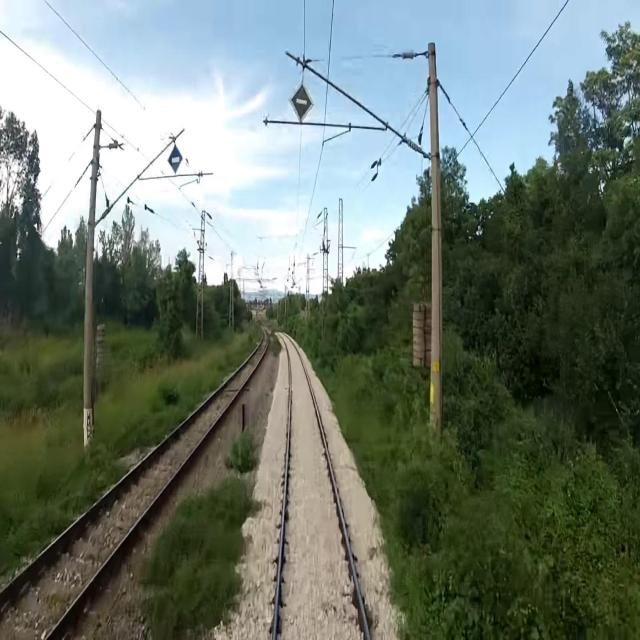rail-track: (0, 331, 267, 639), (277, 337, 366, 639)
